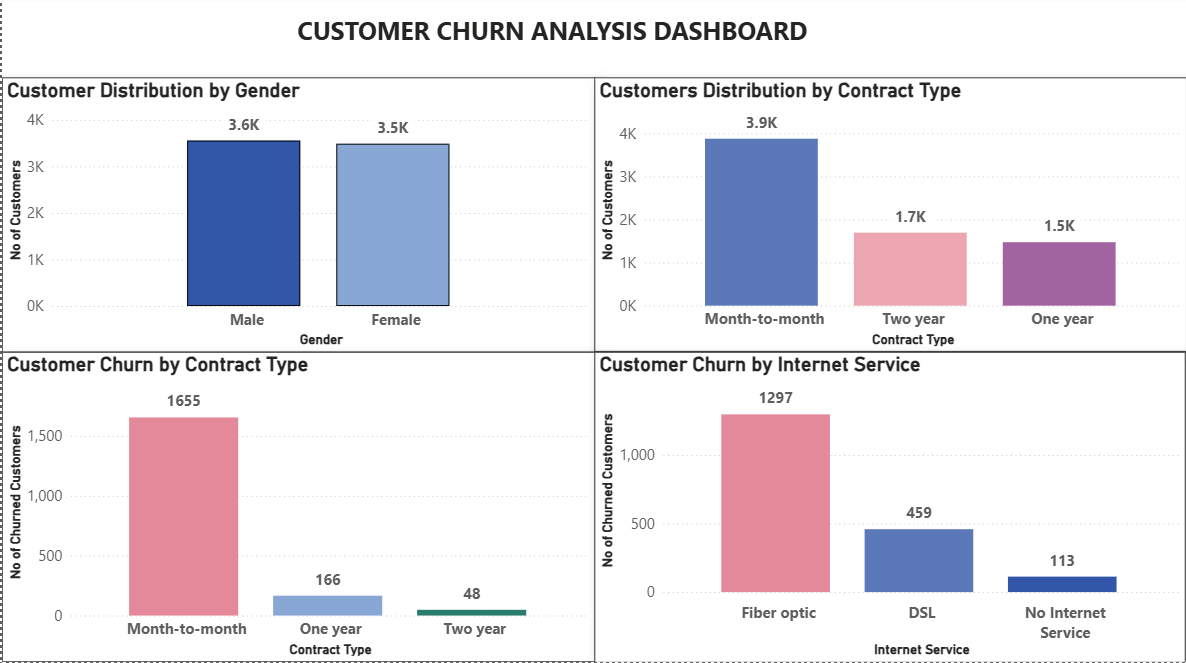

The page's visual inventory and layout, read from the dashboard file:
{"tool":"powerbi","page":{"name":"Page 1","canvas":[1280,720],"ordinal":0},"visuals":[{"type":"lineClusteredColumnComboChart","title":"Customer Distribution by Gender","fields":{"Category":["Telco-Customer-Churn.gender"],"Y":["CountNonNull(Telco-Customer-Churn.customerID)"]},"box":[0,88.8,640.6,296.7],"z":0},{"type":"lineClusteredColumnComboChart","title":"Customers Distribution by Contract Type","fields":{"Category":["Telco-Customer-Churn.Contract"],"Y":["CountNonNull(Telco-Customer-Churn.customerID)"]},"box":[639.6,89.1,639.6,296.3],"z":1000},{"type":"lineClusteredColumnComboChart","title":"Customer Churn by Contract Type","fields":{"Category":["Telco-Customer-Churn.Contract"],"Y":["CountNonNull(Telco-Customer-Churn.customerID)"]},"box":[0,385.5,640.6,334.5],"z":2000},{"type":"lineClusteredColumnComboChart","title":"Customer Churn by Internet Service","fields":{"Category":["Telco-Customer-Churn.InternetService"],"Y":["CountNonNull(Telco-Customer-Churn.customerID)"]},"box":[639.6,385.4,638,335.2],"z":3000},{"type":"textbox","box":[100.4,14.6,1089.7,47],"z":4000}]}

Visuals, with their boxes in screenshot pixels (x1, y1, x2, y2), scaled from the page's 1280x720 canvas onto the 1186x663 screenshot:
"Customer Distribution by Gender" lineClusteredColumnComboChart: select_region(0, 82, 594, 355)
"Customers Distribution by Contract Type" lineClusteredColumnComboChart: select_region(593, 82, 1185, 355)
"Customer Churn by Contract Type" lineClusteredColumnComboChart: select_region(0, 355, 594, 662)
"Customer Churn by Internet Service" lineClusteredColumnComboChart: select_region(593, 355, 1184, 662)
textbox: select_region(93, 13, 1103, 57)
